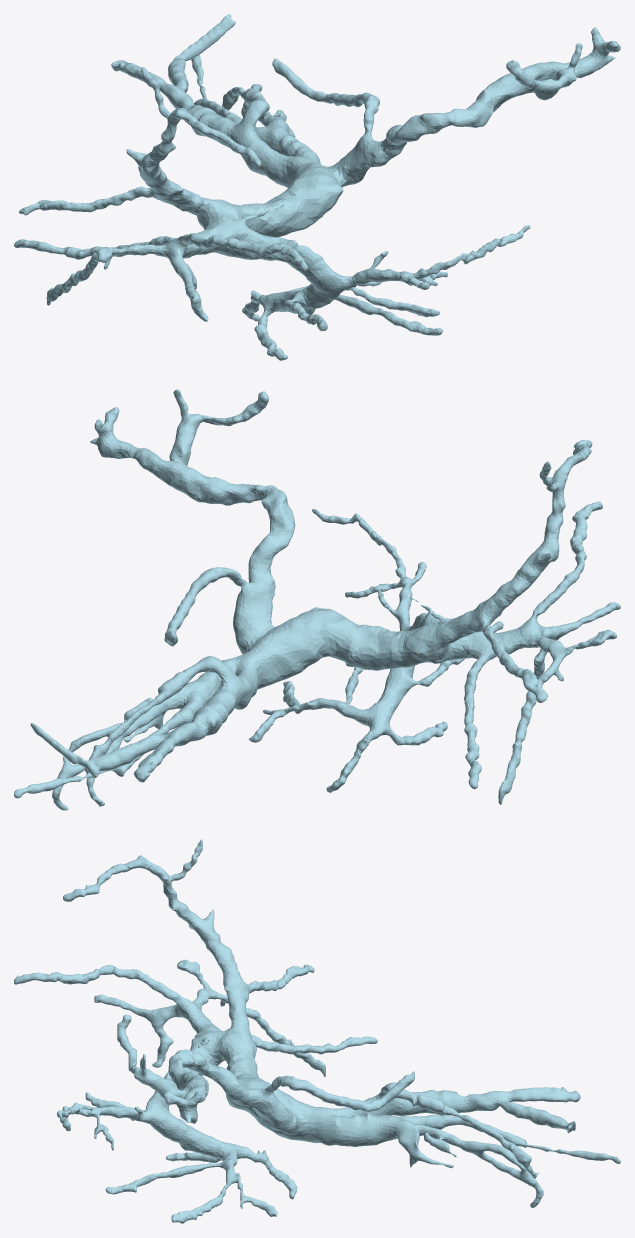
Rendered from portalvein.obj.
The picture shows the model from 3 angles, top to bottom: view 1: azimuth 30°, elevation 25°; view 2: azimuth 150°, elevation 25°; view 3: azimuth 270°, elevation 25°; orthographic projection. The views are drawn at different scales.
Visible parts, largest first — view 1: grp1; view 2: grp1; view 3: grp1.
Part boxes in pixels (x1,y1,x2,y2): grp1: (14, 14, 620, 360); grp1: (14, 389, 620, 810); grp1: (14, 839, 620, 1223).
Size of the model in its own units: 184 by 111 by 212.
